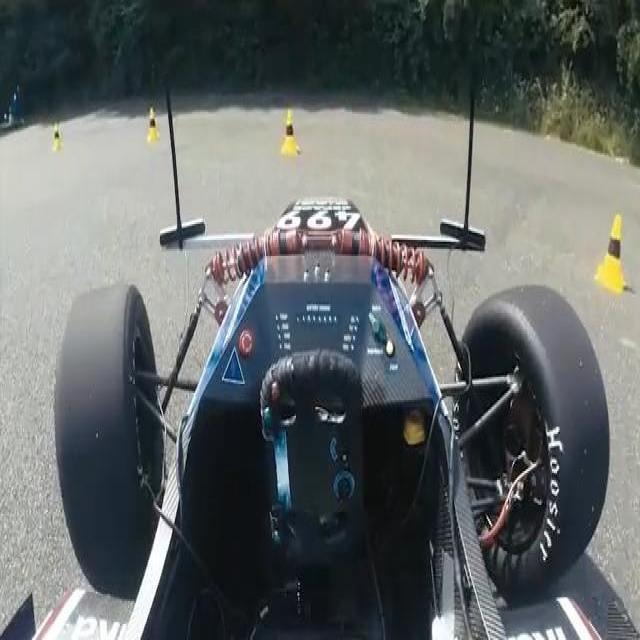yellow_cone: (589, 202, 628, 298), (278, 105, 299, 157), (141, 107, 164, 139), (49, 124, 62, 150)
